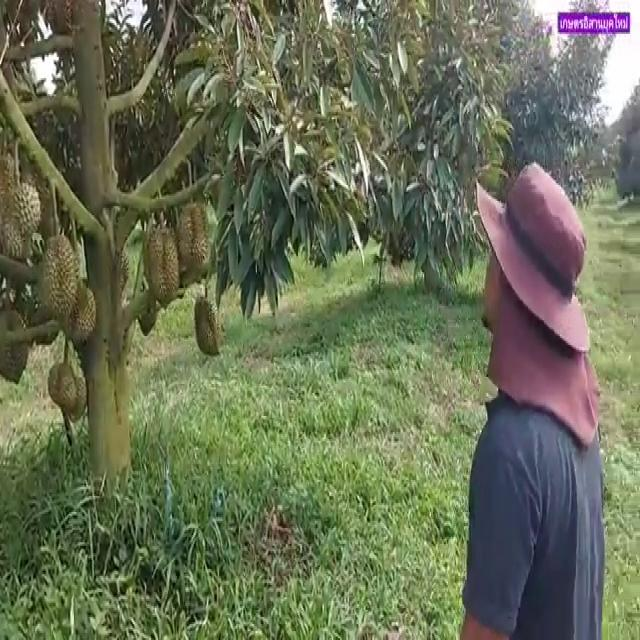durian: (32, 230, 80, 324), (1, 181, 44, 268), (48, 278, 98, 348), (144, 221, 180, 308), (177, 199, 213, 283), (1, 301, 32, 394), (189, 295, 223, 361), (46, 354, 80, 416)
